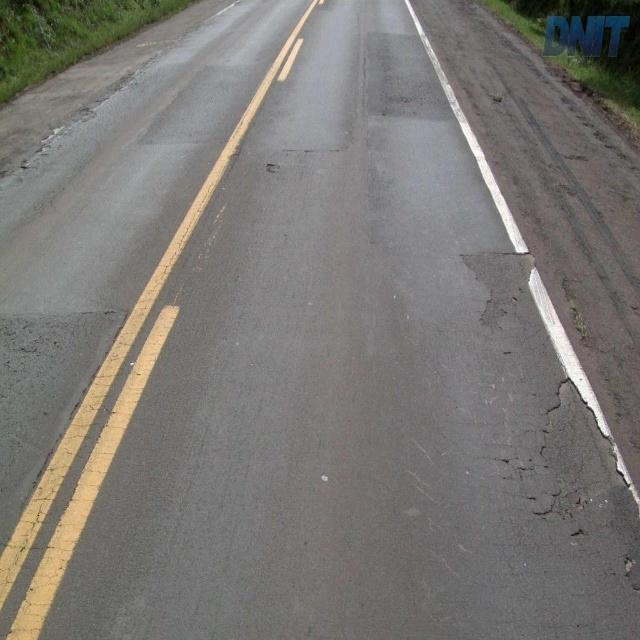pothole: (538, 379, 629, 527), (459, 244, 534, 331), (262, 156, 284, 180)
